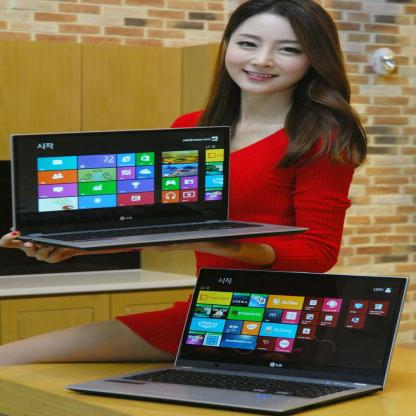board: (54, 278, 416, 414), (8, 126, 310, 251)
